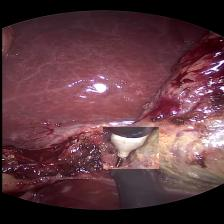Hook: (102, 127, 158, 169)
